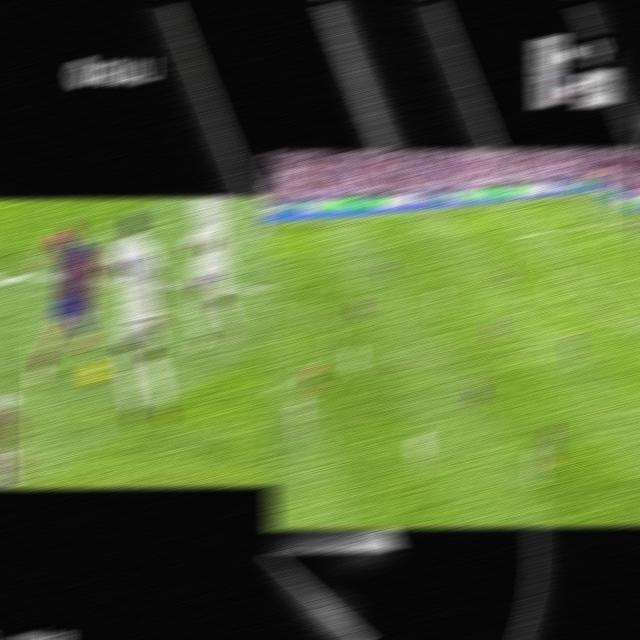bigarea_top_inner: (512, 230, 526, 240)
bigarea_top_outter: (622, 212, 639, 224)
bottom_arc_area_intersection: (617, 312, 635, 327)
corner: (576, 191, 591, 197)
top_arc_area_intersection: (553, 262, 567, 274)
